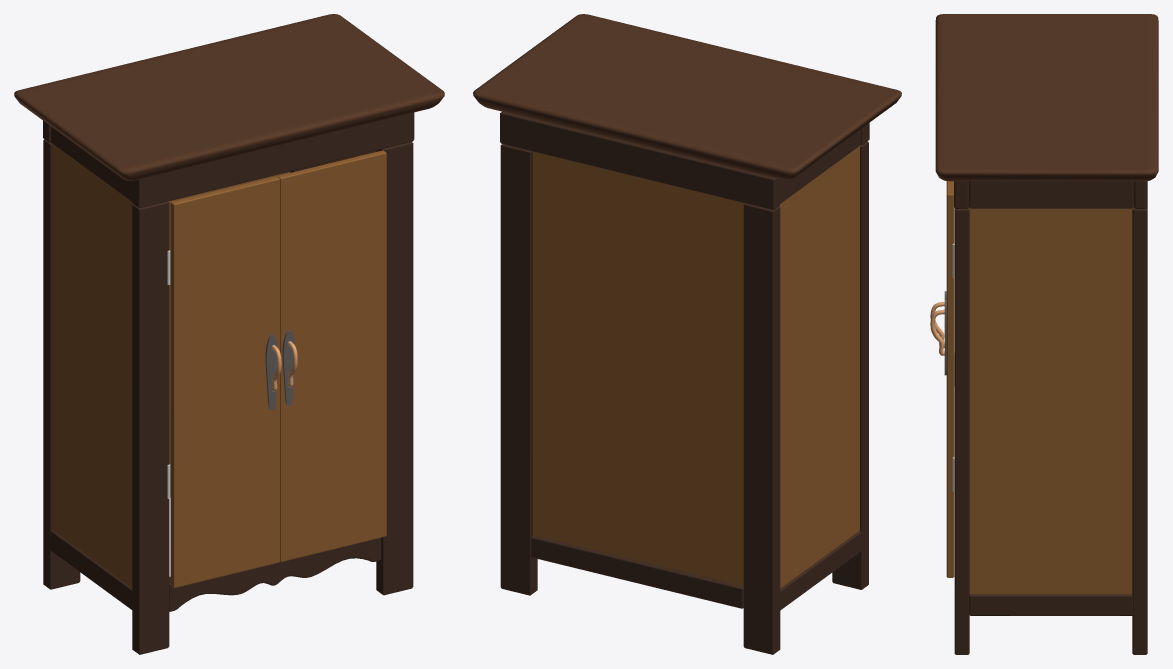
The model's file is wardrobe.fbx.
3 renders of one model, left to right at view 1: azimuth 30°, elevation 25°; view 2: azimuth 150°, elevation 25°; view 3: azimuth 270°, elevation 25°, orthographic.
Parts seen in each view (by area): view 1: Cube.019, Cube.020, Cube.018, Cube.014, Cube.001, Cube.002, Cube.005, Cube.003, Cube.009, Cube.011, Cube.007, Cube.015 (+2 smaller); view 2: Cube.015, Cube.018, Cube.014, Cube.003, Cube.004, Cube.006, Cube.010, Cube.001, Cube.011, Cube.007; view 3: Cube.013, Cube.018, Cube.002, Cube.004, Cube.008, Cube.012, Cube.020, Cube.005, Cube.006.
Boxes of the visible parts, x1,y1,x2,y2 form: Cube.019: (170, 176, 279, 587); Cube.020: (278, 150, 386, 561); Cube.018: (14, 14, 444, 180); Cube.014: (51, 143, 132, 587); Cube.001: (132, 201, 169, 654); Cube.002: (376, 142, 413, 595); Cube.005: (132, 112, 414, 208); Cube.003: (43, 139, 80, 589); Cube.009: (169, 538, 381, 611); Cube.011: (50, 530, 132, 609); Cube.007: (51, 126, 132, 201); Cube.015: (168, 171, 290, 497); Cube.015: (533, 151, 744, 586); Cube.018: (473, 14, 901, 180); Cube.014: (779, 145, 860, 588); Cube.003: (743, 203, 780, 654); Cube.004: (500, 144, 537, 595); Cube.006: (500, 111, 779, 210); Cube.010: (531, 535, 743, 608); Cube.001: (832, 141, 868, 589); Cube.011: (780, 531, 861, 610); Cube.007: (780, 129, 860, 203); Cube.013: (968, 207, 1133, 594); Cube.018: (935, 14, 1158, 181); Cube.002: (954, 208, 969, 654); Cube.004: (1132, 196, 1147, 654); Cube.008: (969, 181, 1133, 208); Cube.012: (969, 594, 1132, 615); Cube.020: (946, 181, 954, 577); Cube.005: (954, 181, 969, 208); Cube.006: (1134, 181, 1147, 209).
Bounding box in the file's own units: 288 × 419 × 175.
